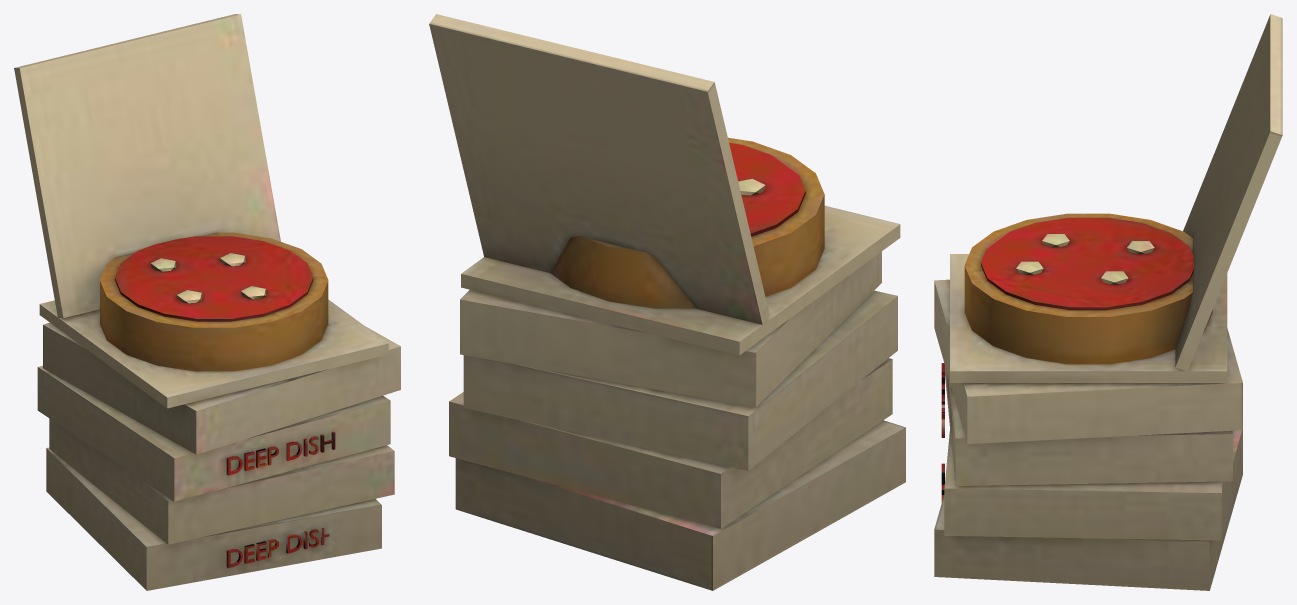
Rendered from cajas_pizza.glb.
3 renders of one model, left to right at view 1: azimuth 30°, elevation 25°; view 2: azimuth 150°, elevation 25°; view 3: azimuth 270°, elevation 25°, orthographic. The views are drawn at different scales.
Visible parts, largest first — view 1: cajas_pizza; view 2: cajas_pizza; view 3: cajas_pizza.
Part boxes in pixels (box(x1,y1,x2,y2)): cajas_pizza: box(14, 14, 400, 590); cajas_pizza: box(429, 14, 905, 590); cajas_pizza: box(934, 14, 1282, 590).
Size of the model in its own units: 0.9756 by 1.53 by 1.07.
1 material, 1 textured.
